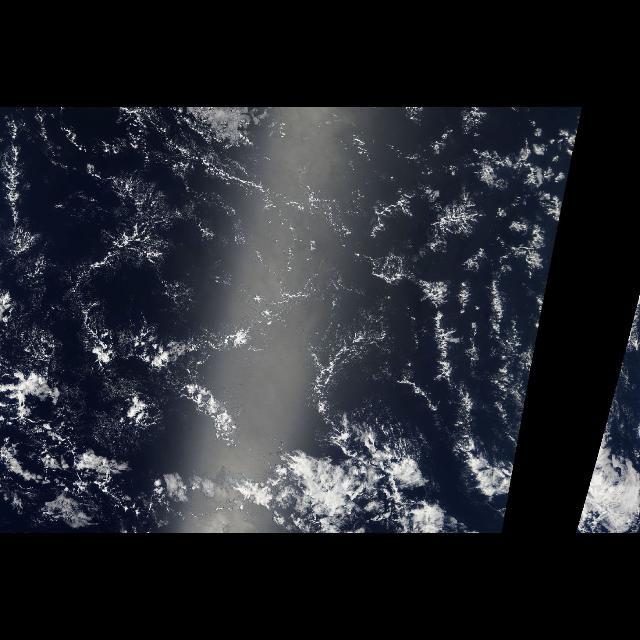Sugar: (119, 158, 301, 324)
